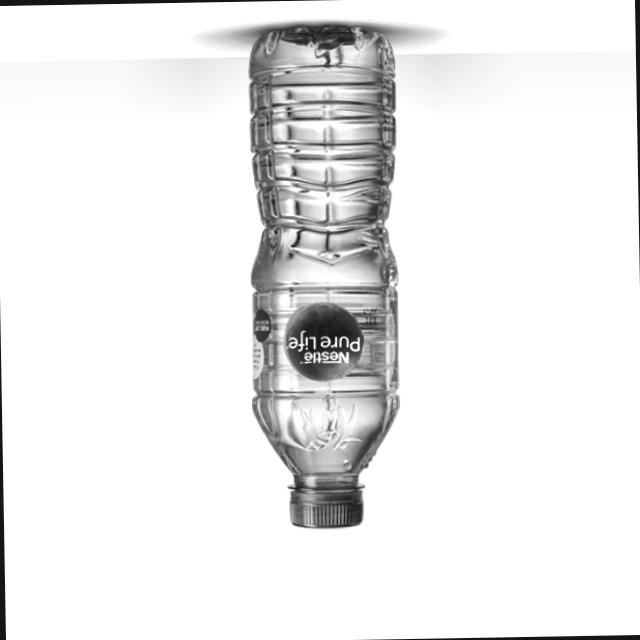waterbottle: (233, 14, 417, 546)
